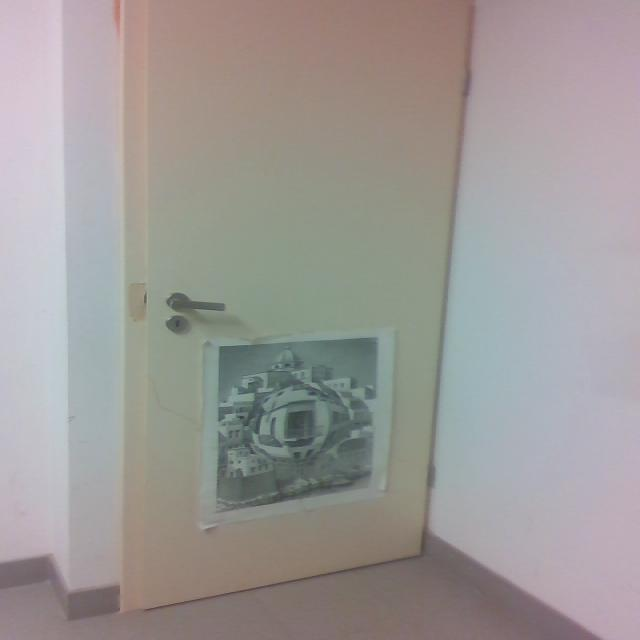door: (119, 0, 473, 611)
